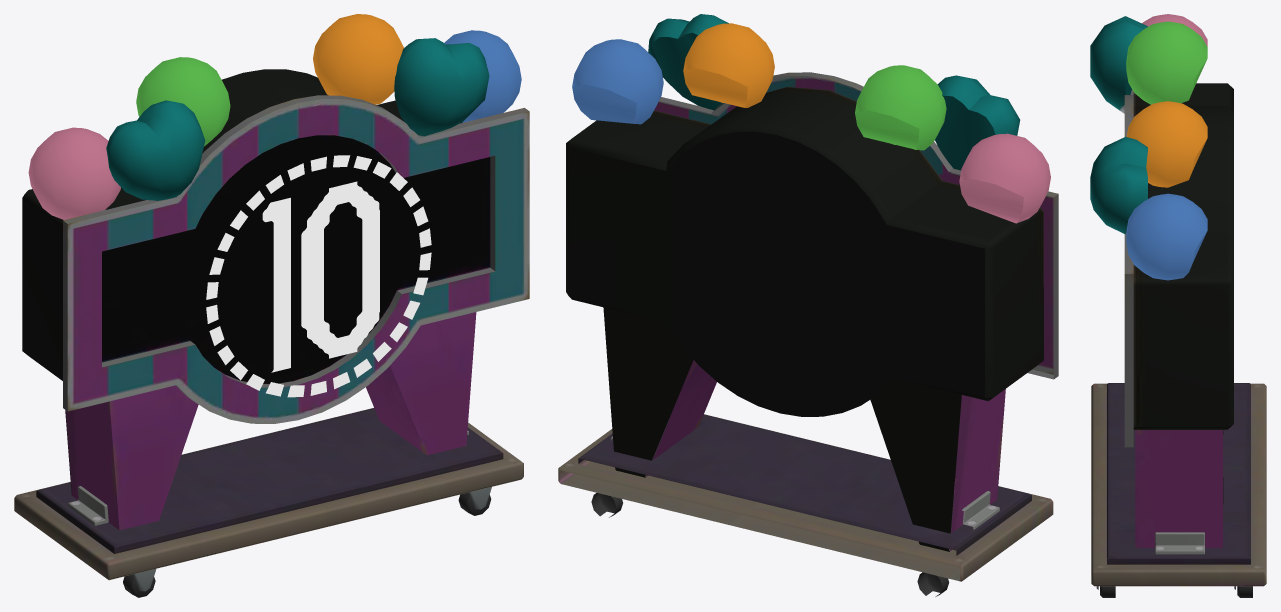
The model's file is countdown-board.glb.
3 renders of one model, left to right at view 1: azimuth 30°, elevation 25°; view 2: azimuth 150°, elevation 25°; view 3: azimuth 270°, elevation 25°, orthographic. The views are drawn at different scales.
Bounding box in the file's own units: 28.08 × 27.42 × 9.82.
Materials: 4 (4 with a texture image).
